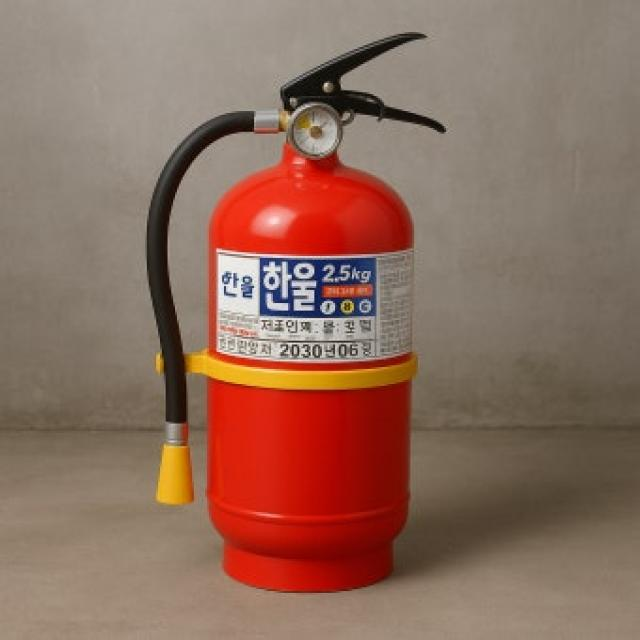pressure gauge: (287, 104, 342, 159)
